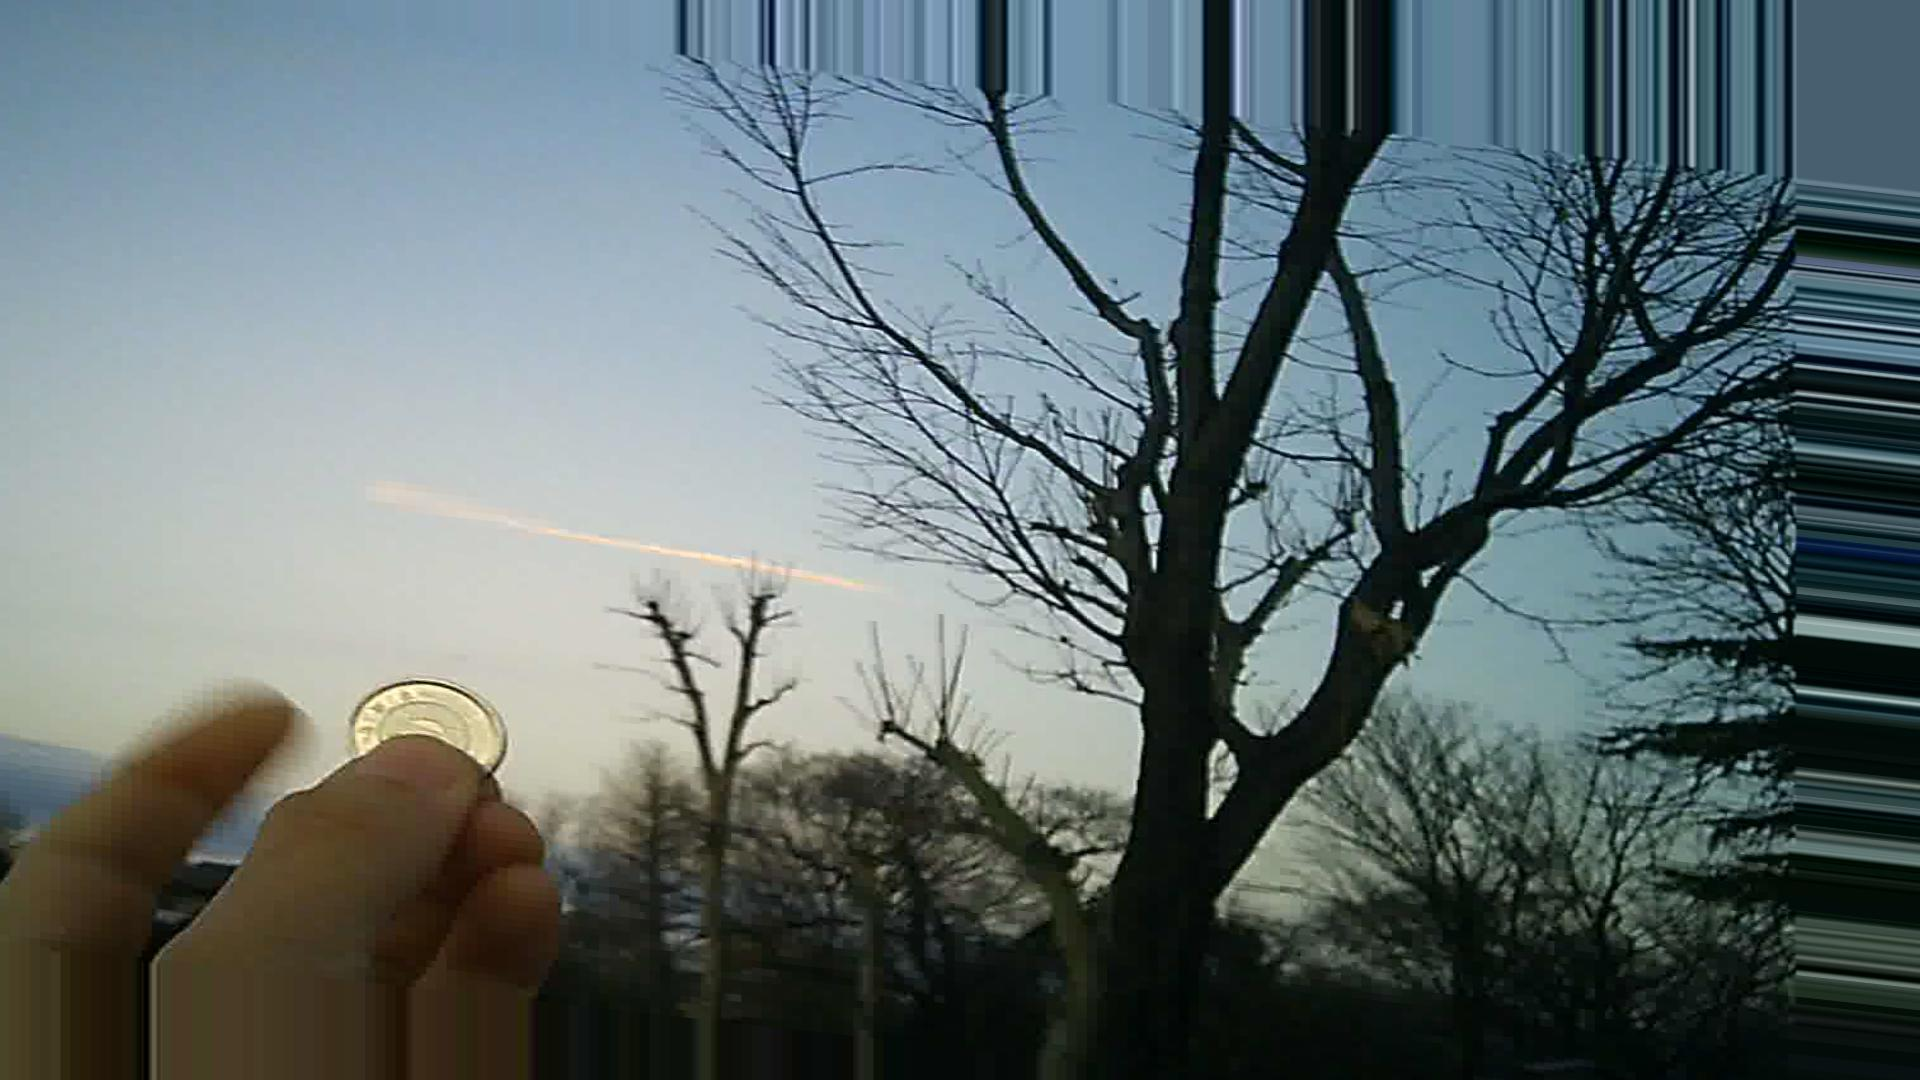1 Yen: (338, 680, 502, 793)
